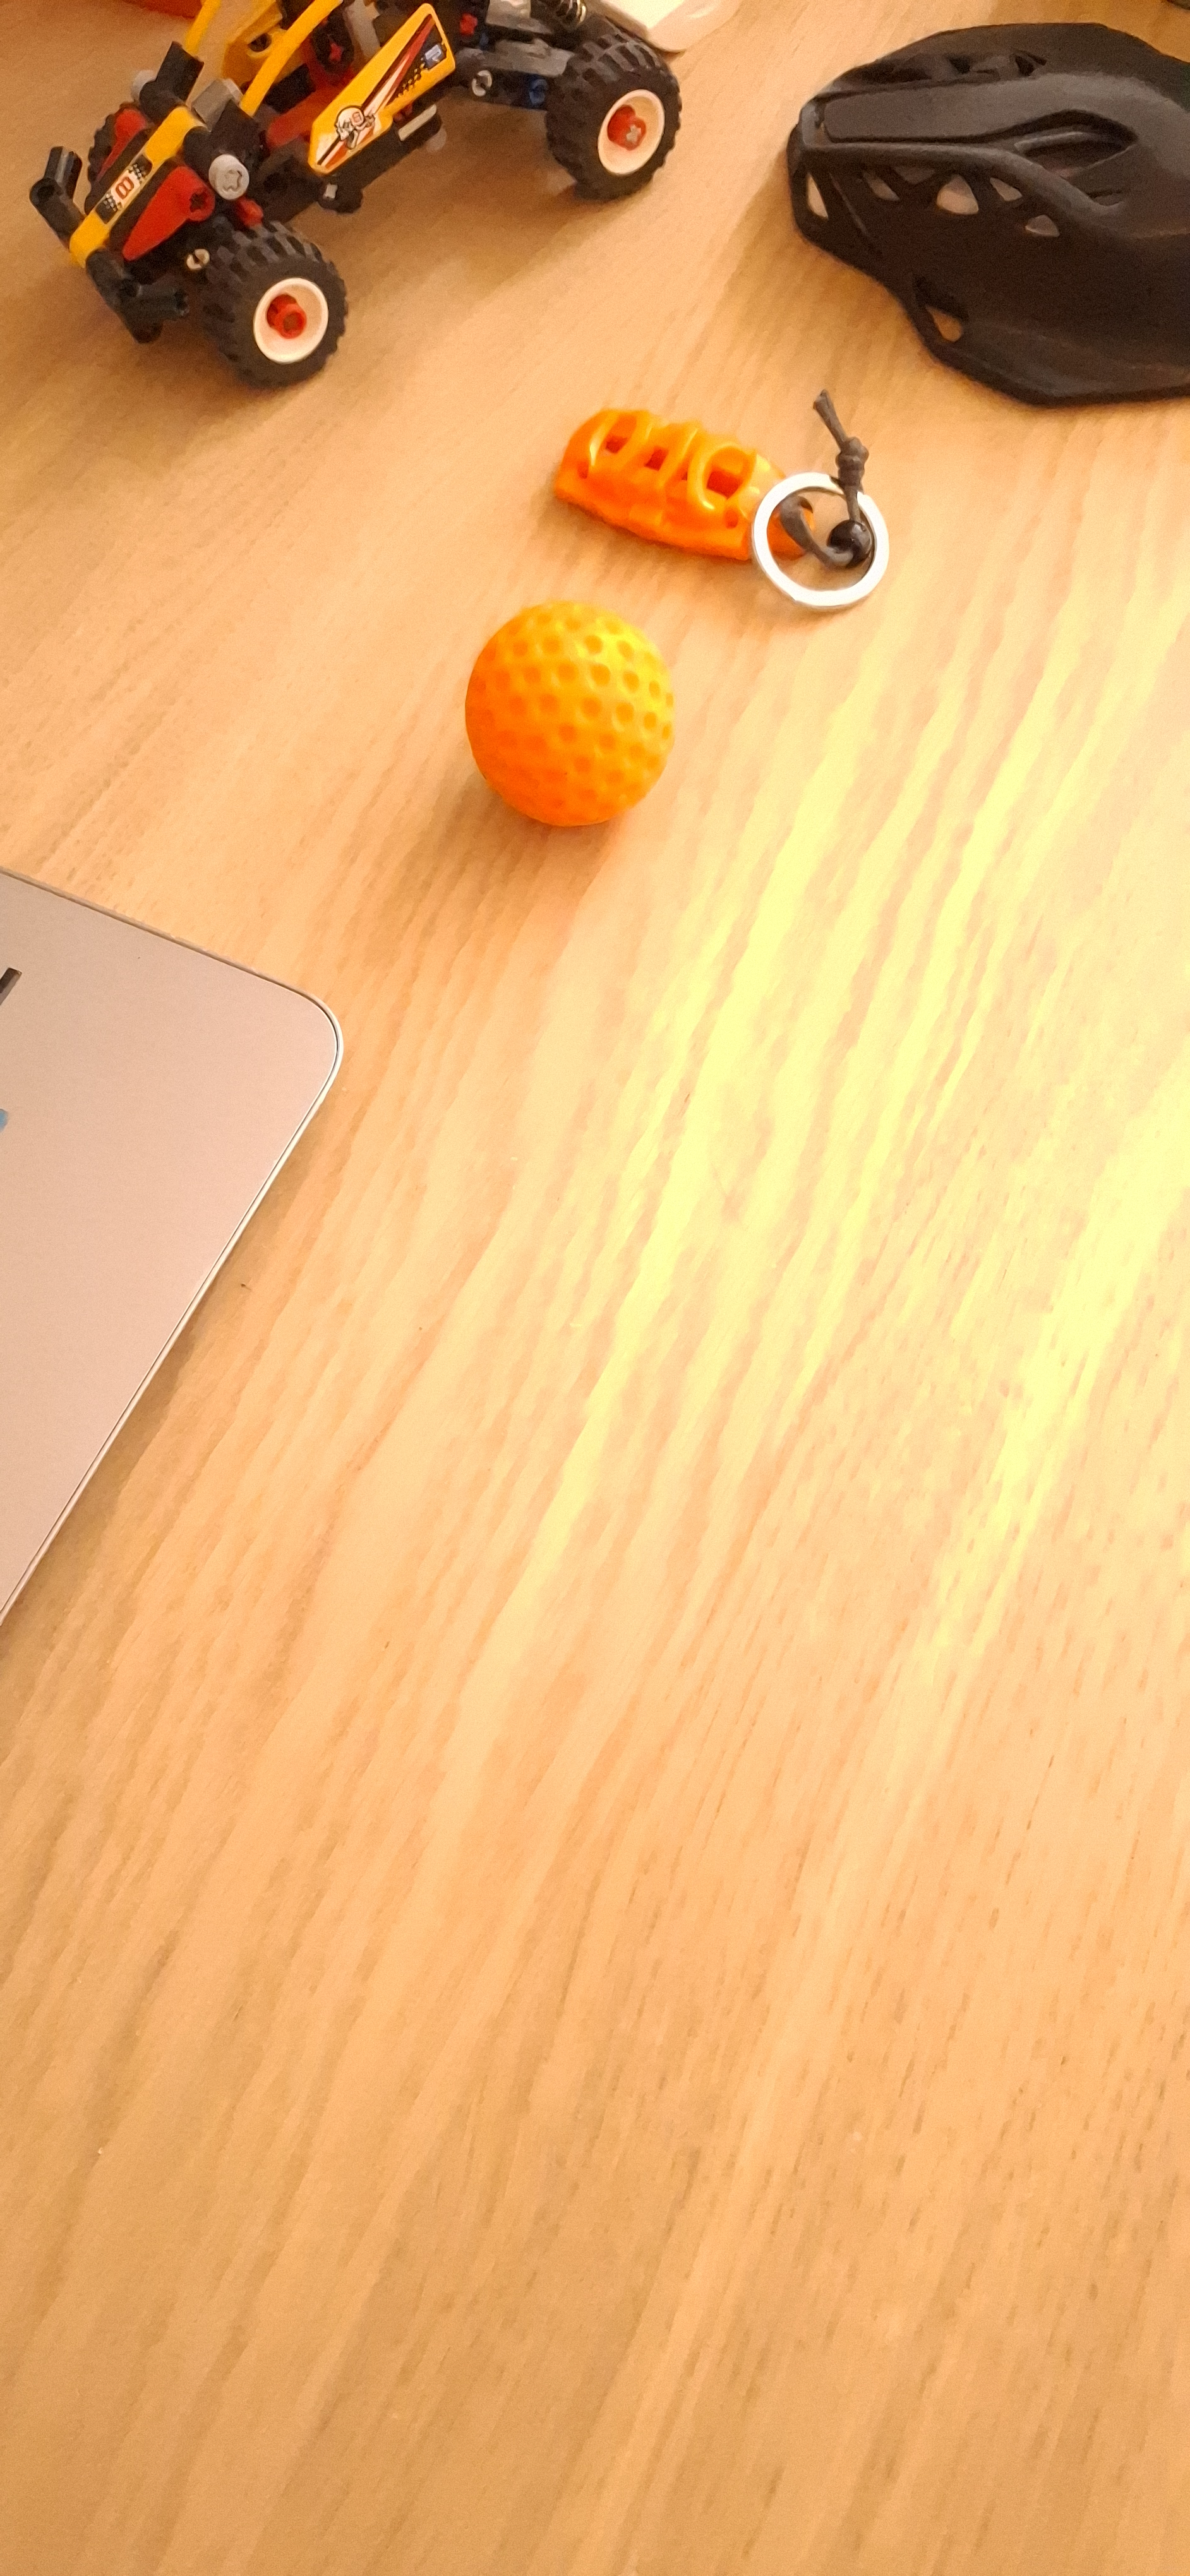ball: (276, 1114, 385, 1569)
